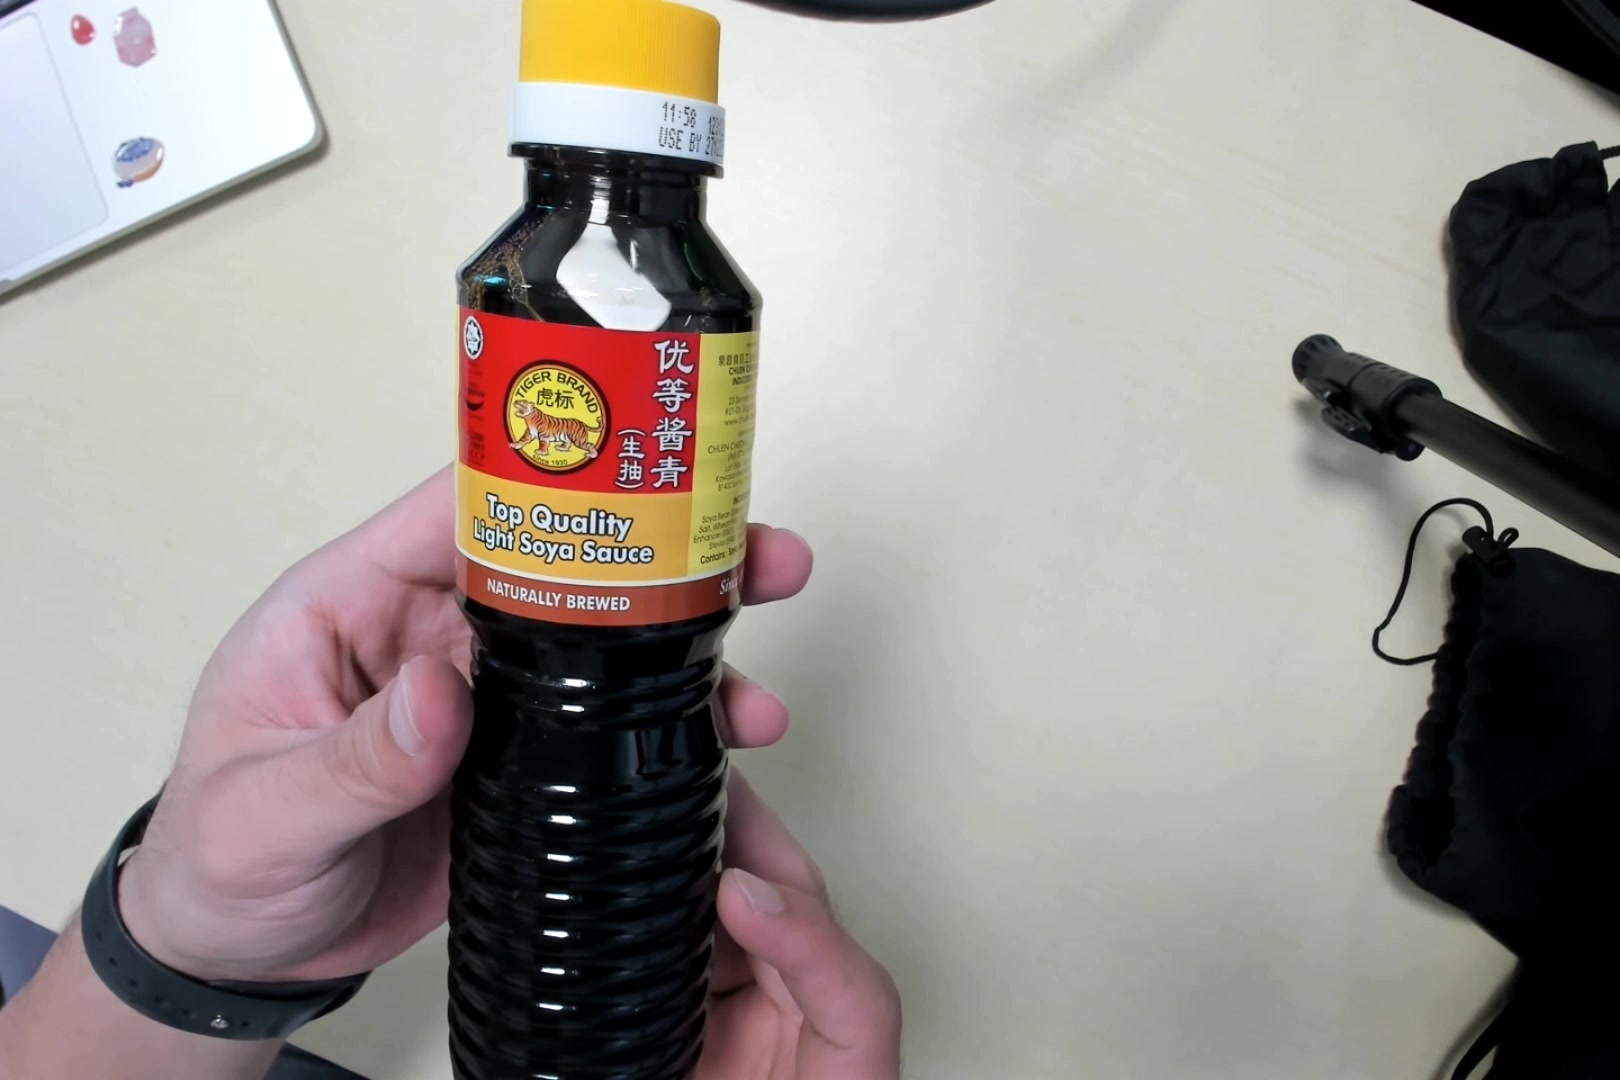LightSoySauce_300-399g_Halal_NonHealthy: (450, 1, 762, 1080)
